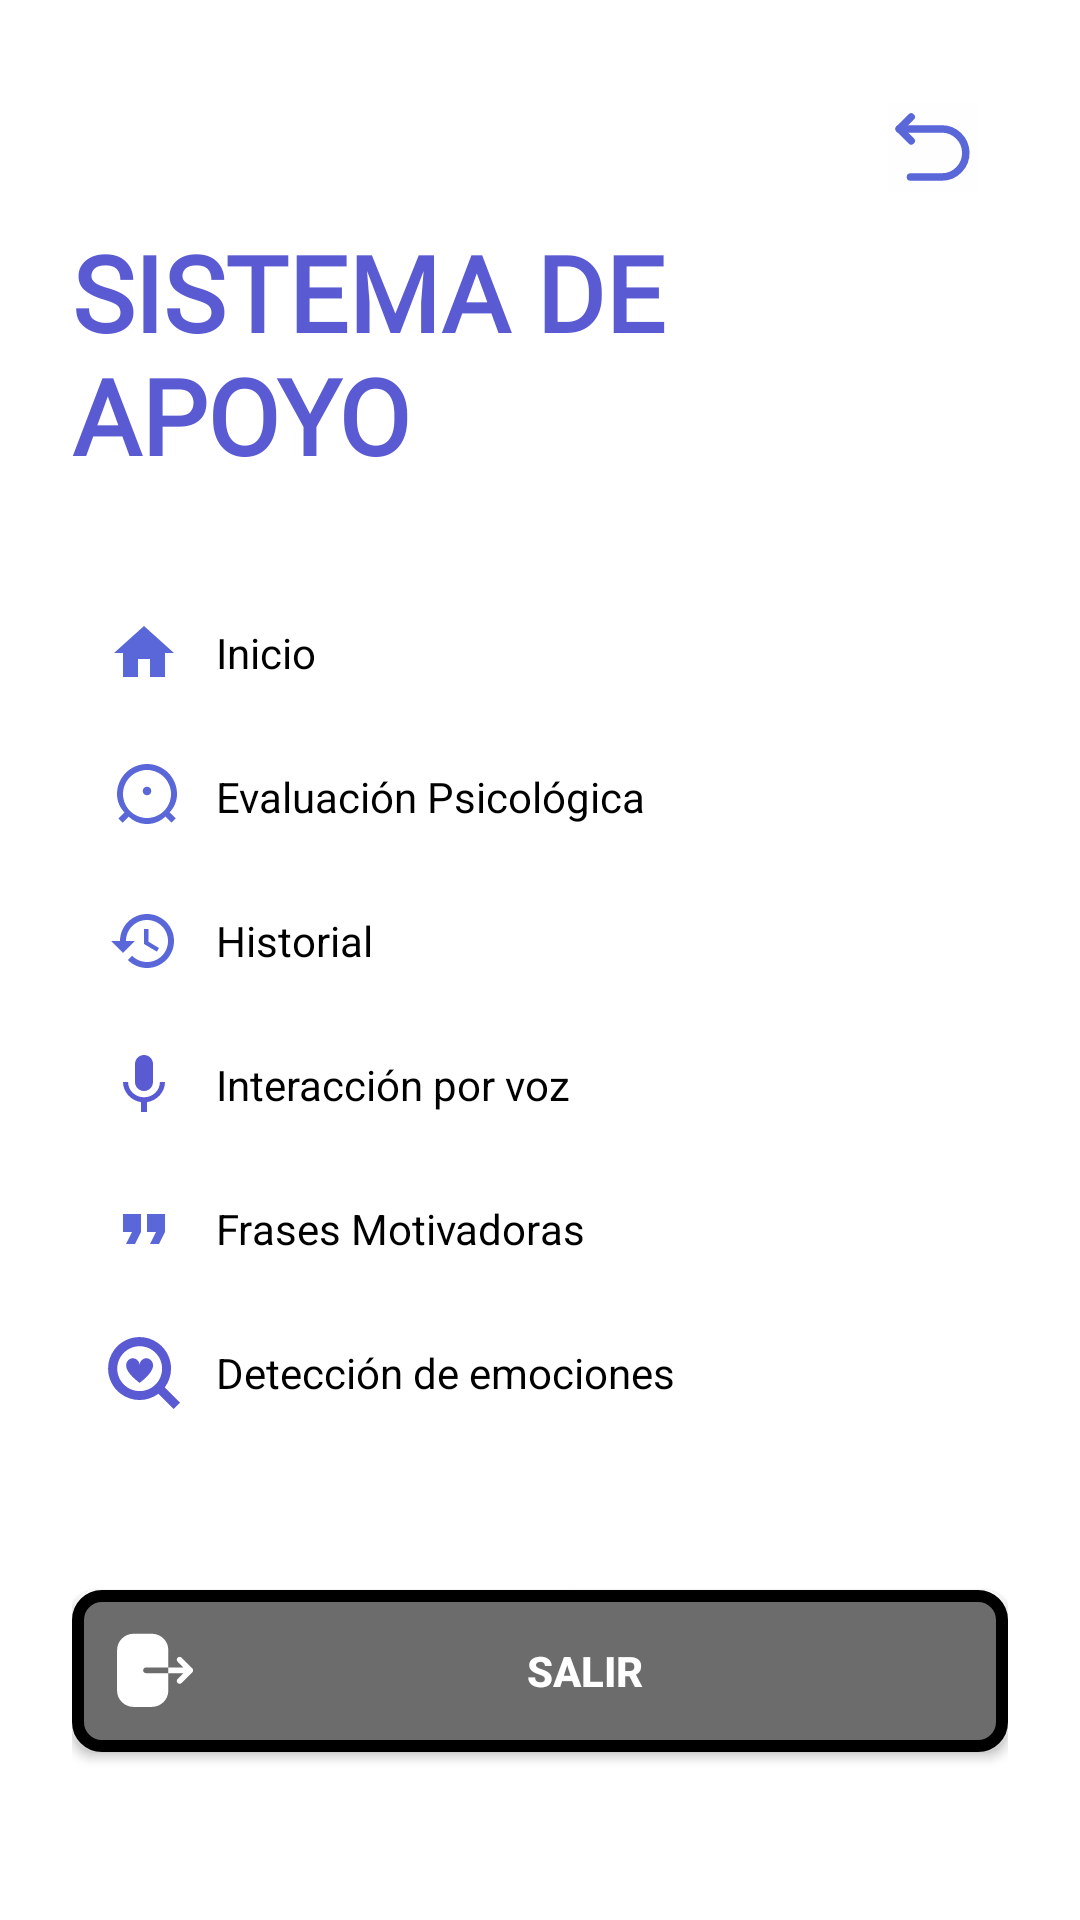

Where to tap for icons on this 1080*1920 app screen, as [x,y]:
buscar emocion: [144,1373]
history: [142,941]
home: [144,651]
mic: [144,1083]
quote: [144,1229]
return: [932,147]
